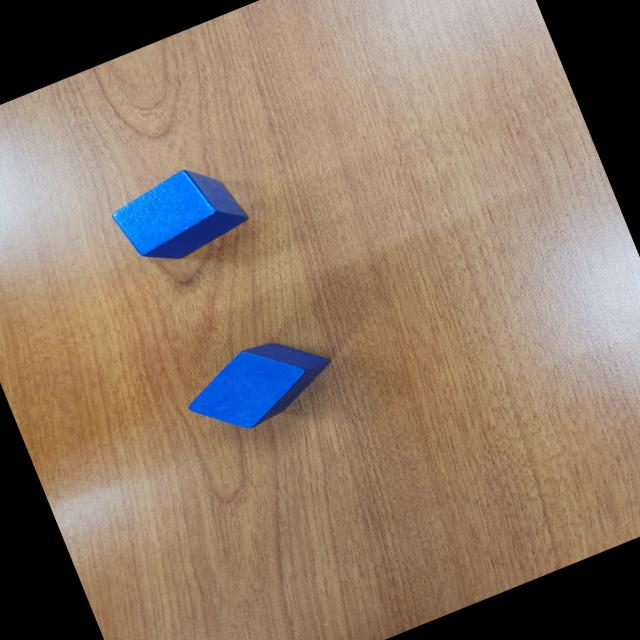blue: (175, 322, 343, 448), (105, 154, 254, 276)
